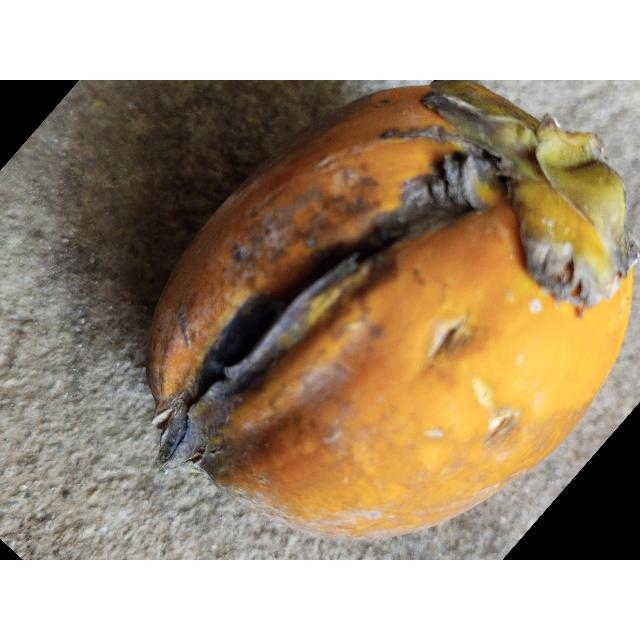damaged: (147, 80, 634, 537)
